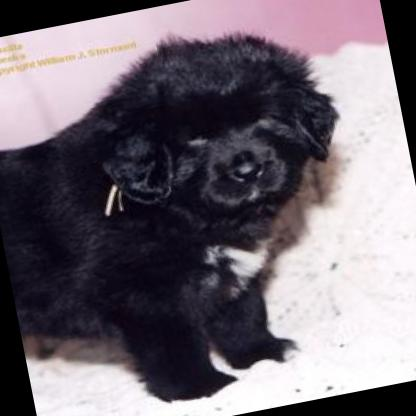Tibetan_mastiff: (0, 0, 391, 416)
